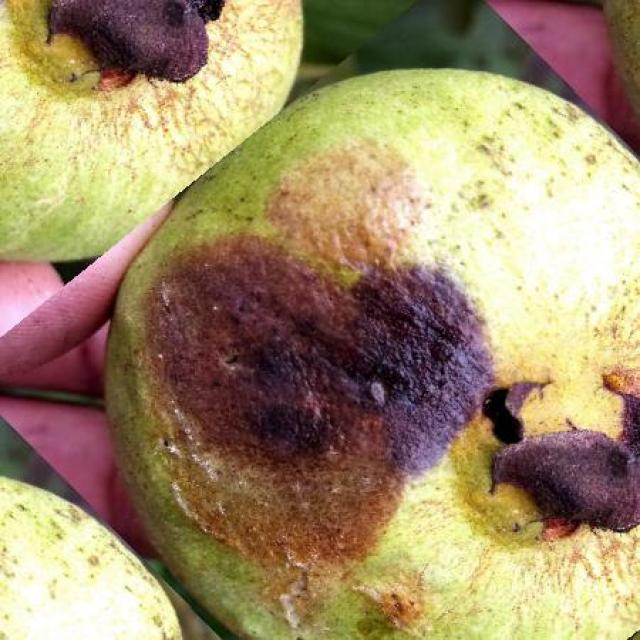Styler and Root: (109, 70, 640, 640)
